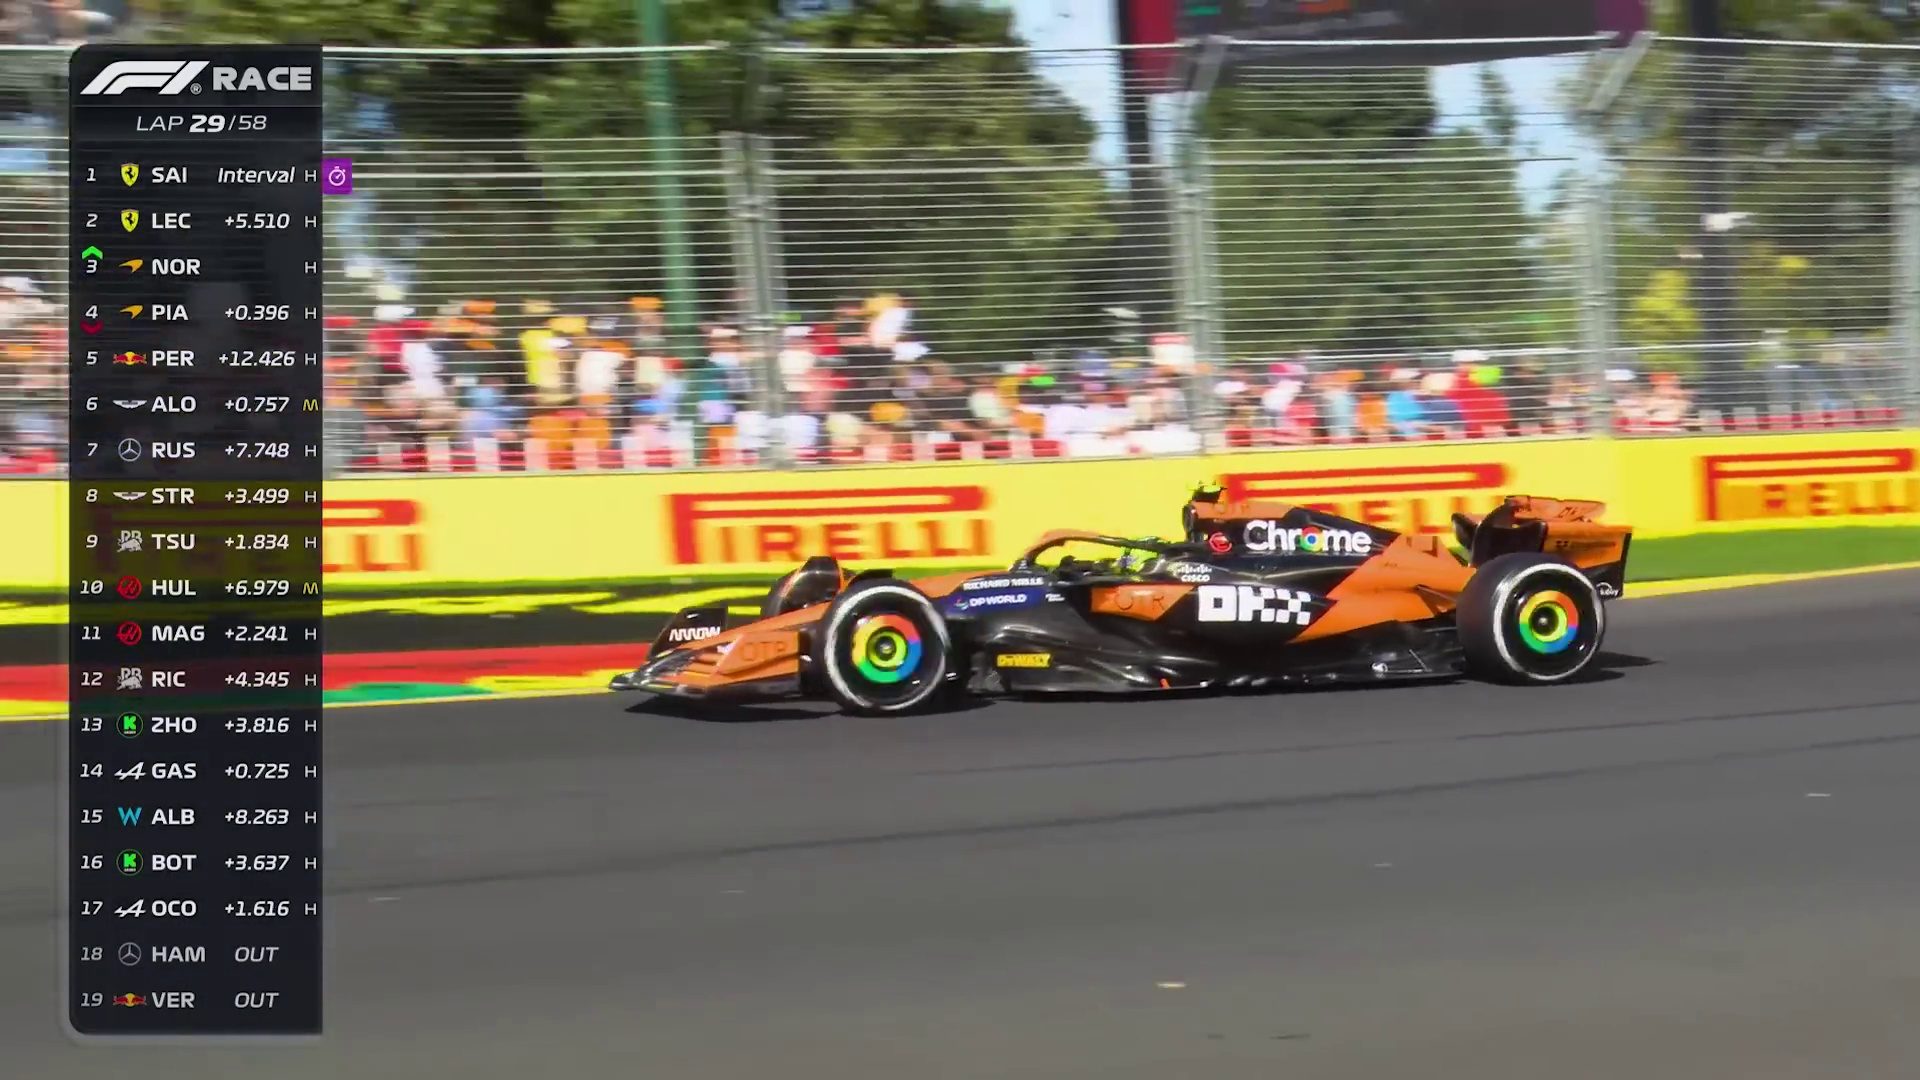Mclaren: (630, 495, 1636, 704)
